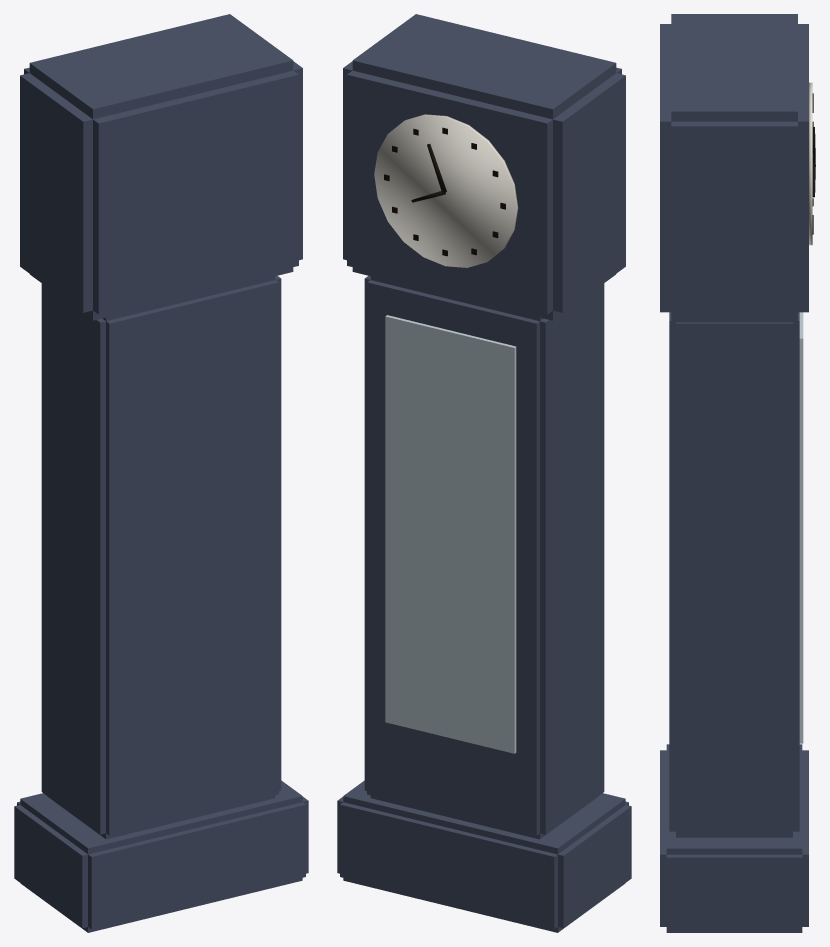
File: granite_clock_v0.glb
The picture shows the model from 3 angles, left to right: view 1: azimuth 30°, elevation 25°; view 2: azimuth 150°, elevation 25°; view 3: azimuth 270°, elevation 25°; orthographic projection.
Parts seen in each view (by area): view 1: granite_clock_v0; view 2: granite_clock_v0; view 3: granite_clock_v0.
Boxes of the visible parts, <box> form: granite_clock_v0: <box>14,14,308,932</box>; granite_clock_v0: <box>337,14,631,932</box>; granite_clock_v0: <box>660,14,815,932</box>.
Bounding box in the file's own units: 0.7 × 2.42 × 0.4185.
